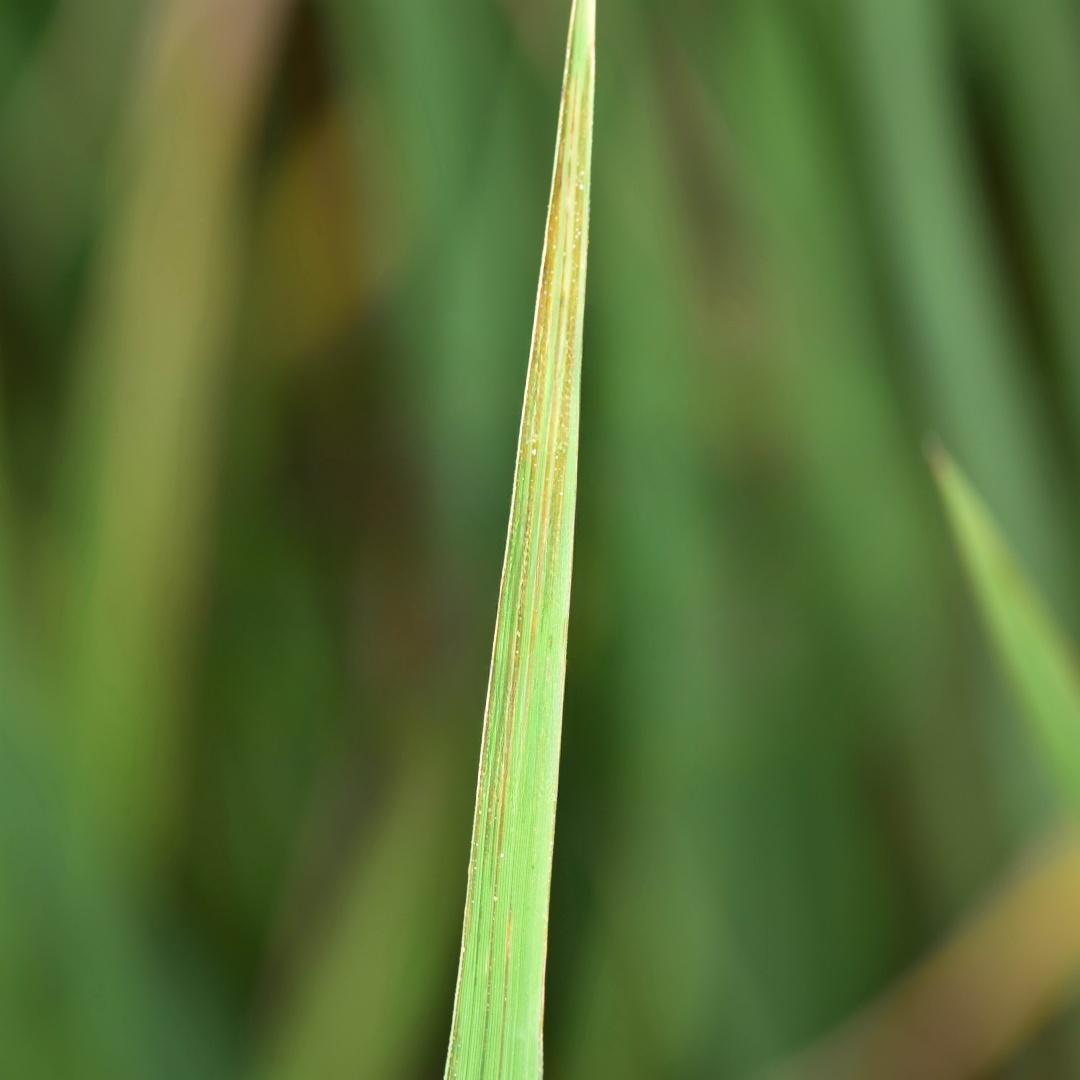BLS: (443, 1, 594, 1079), (498, 897, 512, 1078)
LEAF: (442, 1, 596, 1079)
